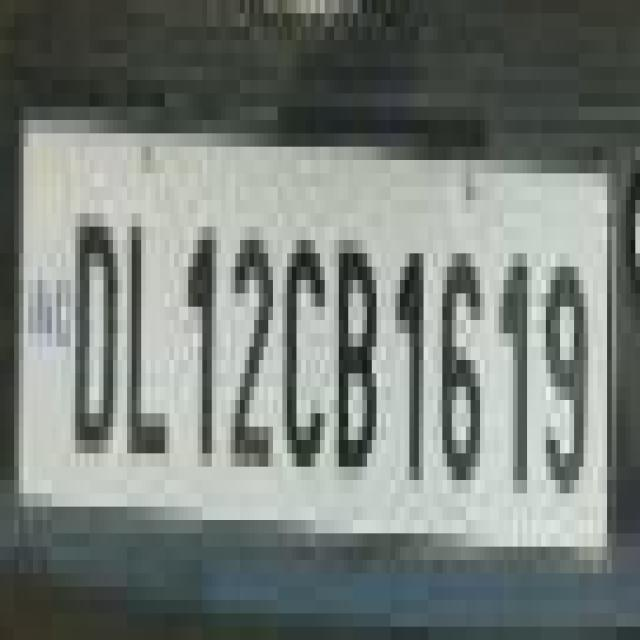license_plate: (29, 120, 636, 573)
